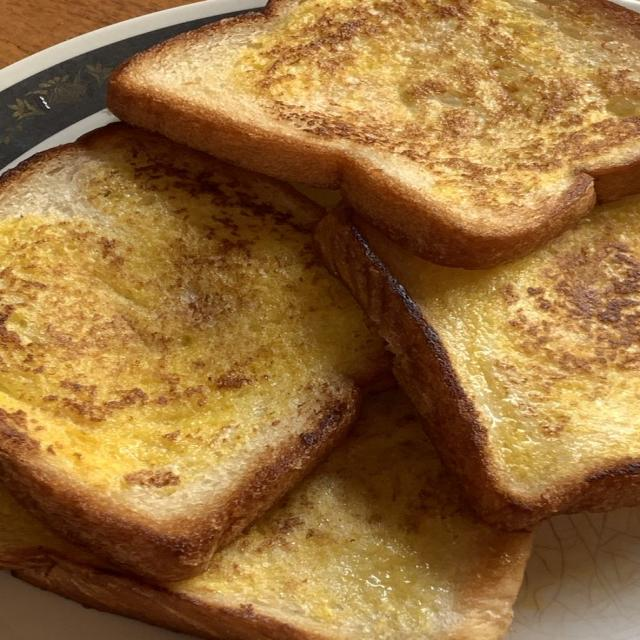toast bread: (0, 124, 386, 581), (108, 0, 639, 268), (0, 391, 531, 639), (318, 197, 639, 528)
